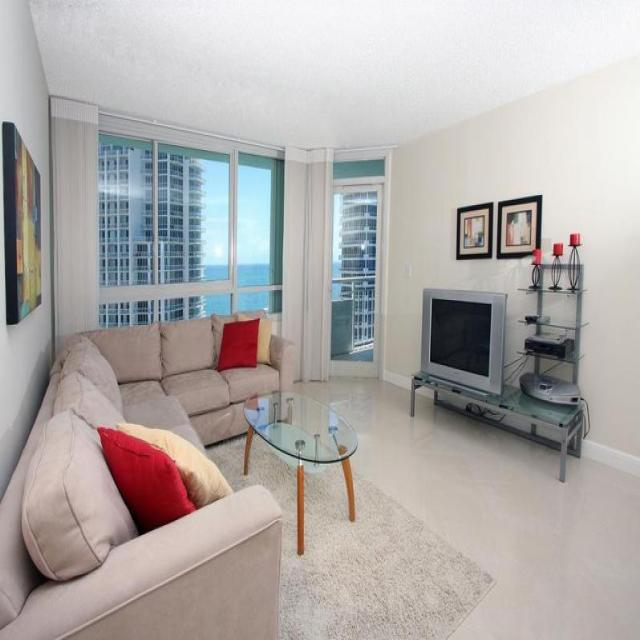curtains: (49, 95, 99, 360)
door: (328, 180, 383, 379)
pillows: (20, 406, 138, 582), (96, 425, 197, 531), (115, 420, 233, 508)
rugs: (204, 428, 496, 638)
sofa: (0, 310, 294, 639)
table: (241, 387, 358, 555)
table-lamp: (566, 231, 582, 291), (528, 248, 542, 288)
television: (420, 286, 507, 396)
